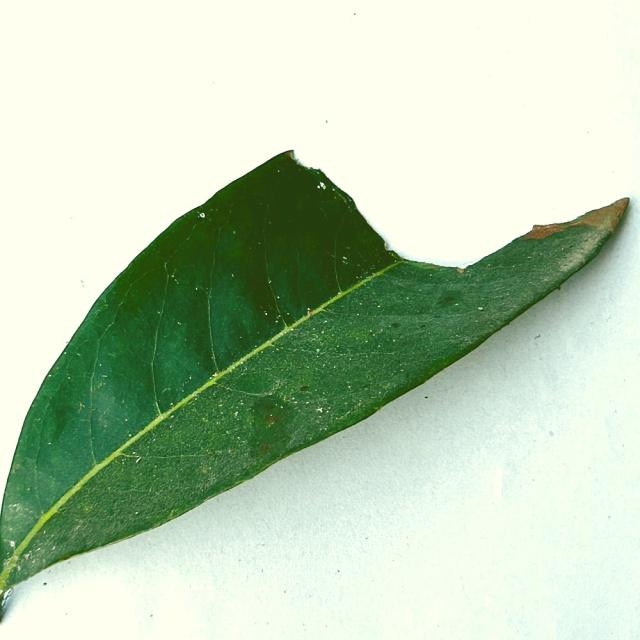Deficiency Leaf: (298, 130, 639, 268)
Lychee: (0, 150, 630, 608)
